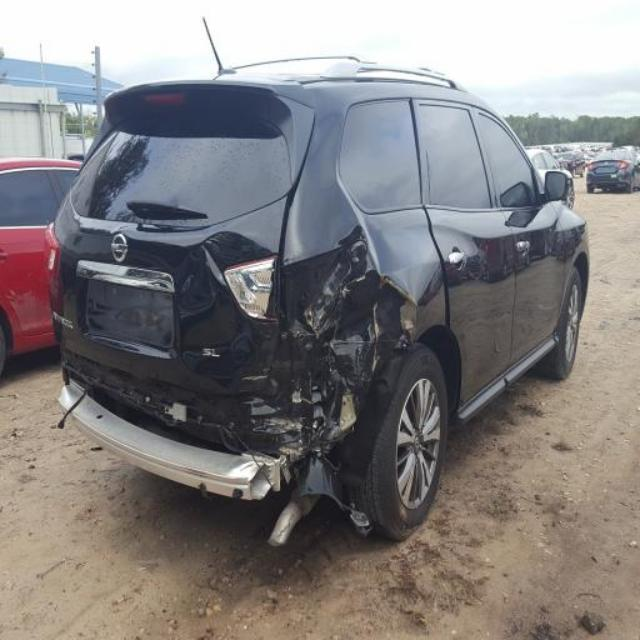crack: (57, 344, 238, 453)
lamp broken: (205, 234, 277, 321)
no part: (224, 220, 426, 531)
